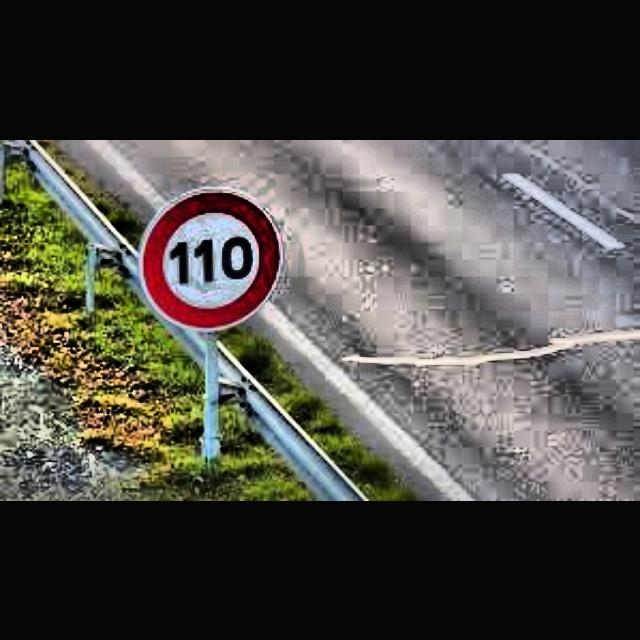speed_110: (142, 186, 282, 330)
